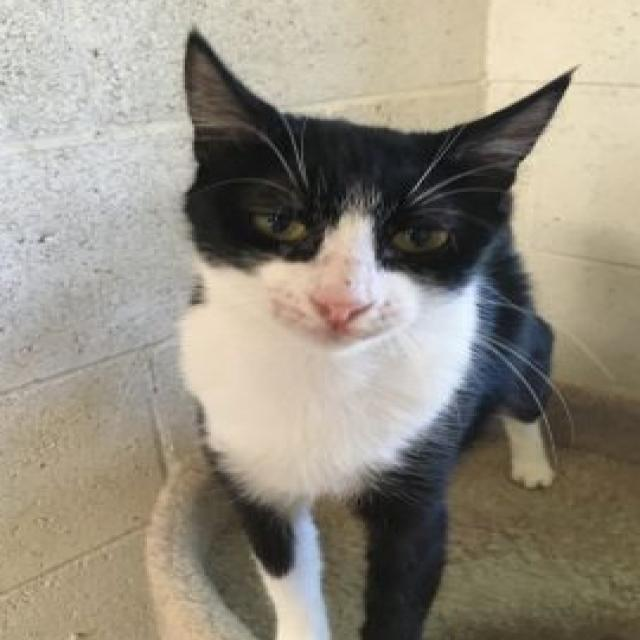Tuxedo: (168, 21, 583, 640)
